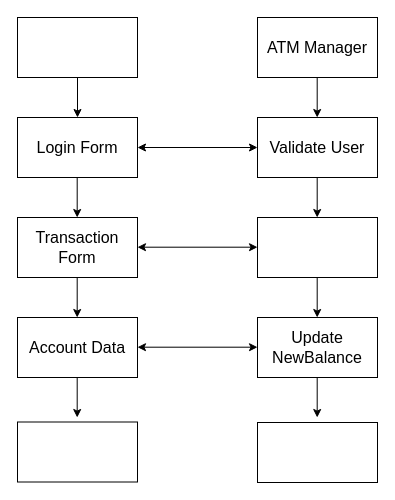
Some shapes in this 395 by 500 pixel diagram are drawn without their labels. Here are the shapes that lost their labels. From the top down, the box of each, then its label:
(16, 16, 138, 78): Users
(256, 216, 378, 278): Manage Accounts
(16, 421, 138, 482): Display Results
